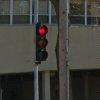Traffic light: (33, 17, 48, 73)
